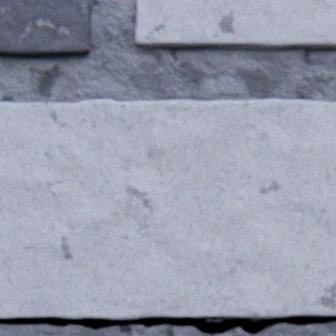brick: (0, 100, 335, 319), (136, 0, 335, 50), (0, 0, 93, 59)
crack: (0, 314, 335, 335)
